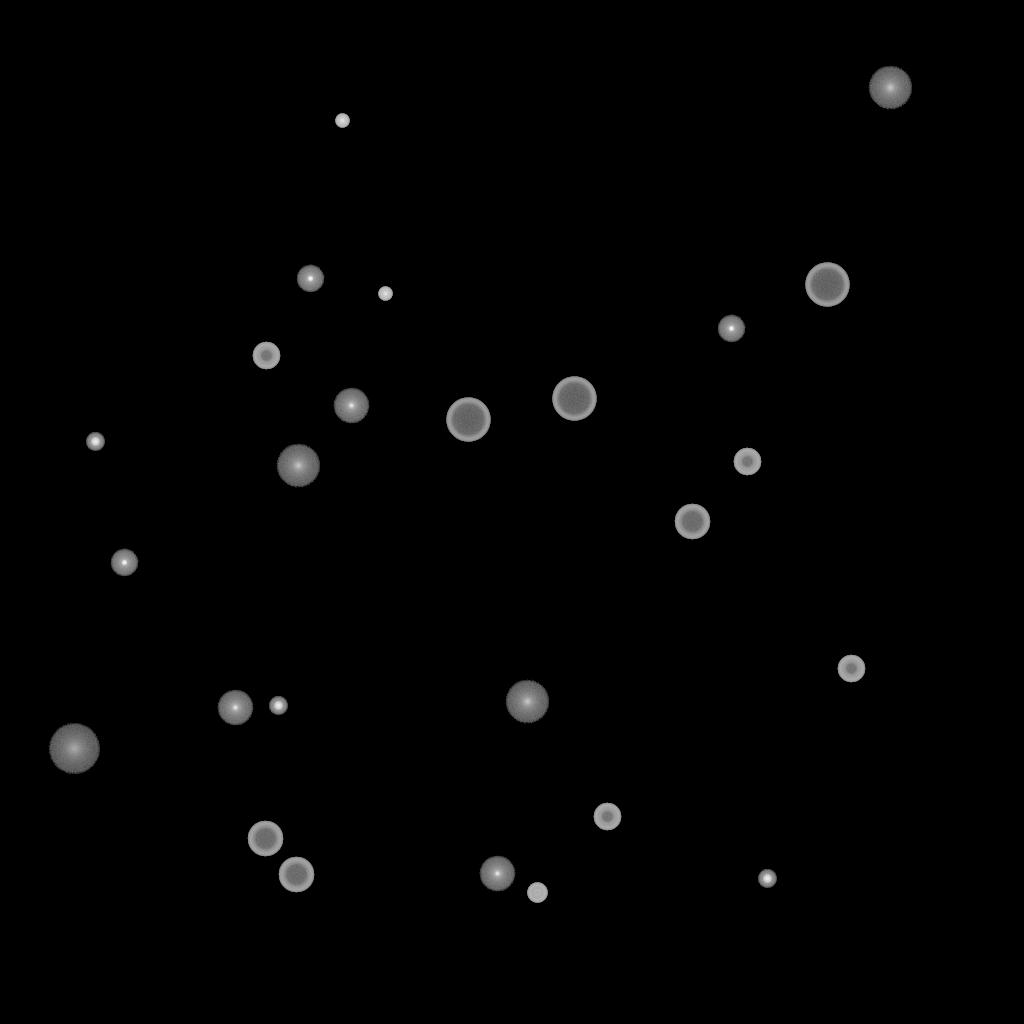depth:-10: (717, 315, 745, 343), (296, 265, 324, 293), (110, 549, 138, 577)
depth:-20: (758, 870, 776, 888), (86, 433, 104, 451), (269, 697, 287, 715)
depth:-30: (335, 114, 349, 128), (378, 287, 392, 301)
depth:-40: (527, 883, 547, 903)
depth:-50: (837, 655, 865, 683), (252, 342, 280, 370), (593, 803, 621, 831), (733, 448, 761, 476)
depth:-60: (674, 504, 710, 540), (278, 857, 314, 893), (247, 821, 283, 857)
depth:-70: (552, 377, 596, 421), (446, 398, 490, 442), (805, 263, 849, 307)
depth:0: (217, 690, 253, 726), (479, 856, 515, 892), (333, 388, 369, 424)
depth:10: (276, 444, 320, 488), (868, 66, 912, 110), (505, 680, 549, 724)
depth:20: (48, 724, 100, 774)
